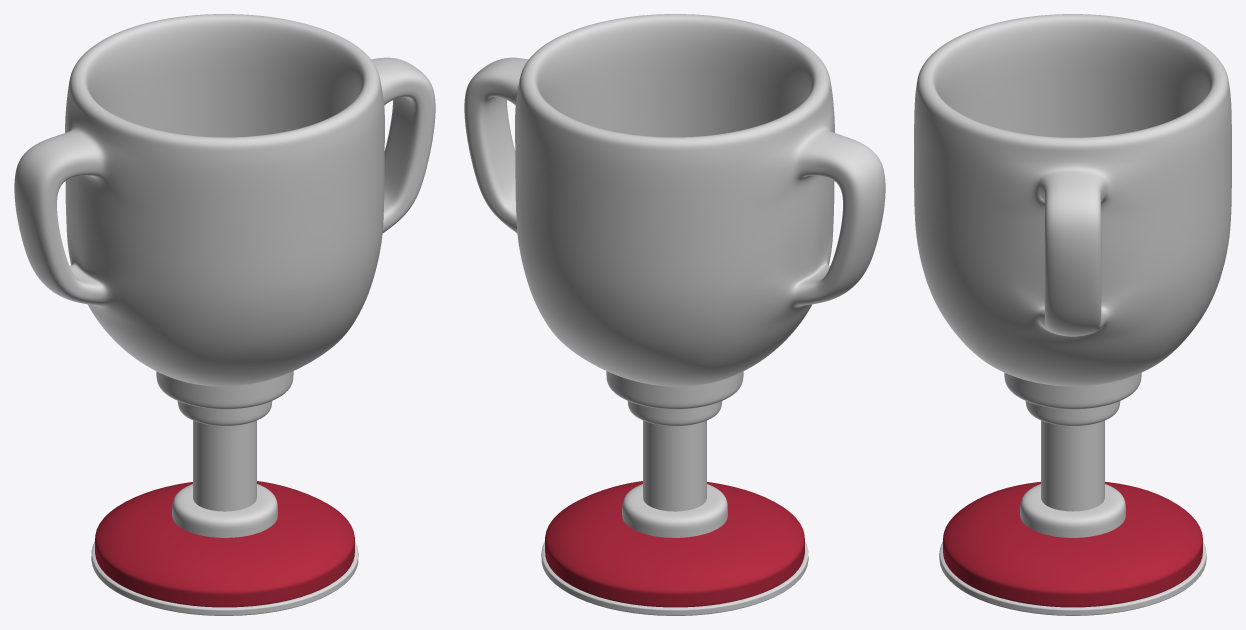
File: trophy.fbx
3 views of the same model, side by side, from view 1: azimuth 30°, elevation 25°; view 2: azimuth 150°, elevation 25°; view 3: azimuth 270°, elevation 25° (orthographic).
Visible parts, largest first — view 1: Cube.016; view 2: Cube.016; view 3: Cube.016.
Boxes of the visible parts, <box> form: Cube.016: <box>14,14,435,615</box>; Cube.016: <box>464,14,885,615</box>; Cube.016: <box>914,14,1231,615</box>.
Bounding box in the file's own units: 168 × 192 × 114.
